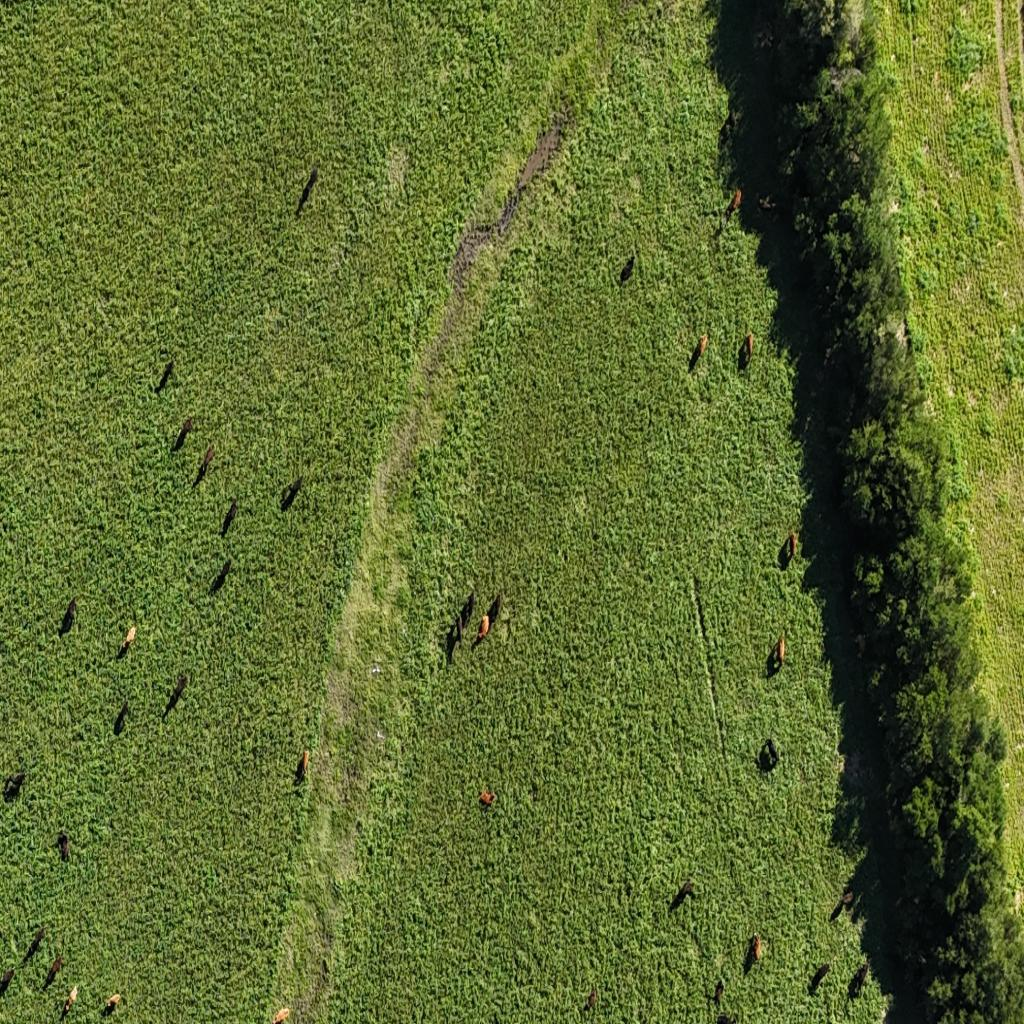cow: (789, 164, 816, 210), (296, 166, 318, 216), (192, 444, 213, 488), (209, 559, 232, 597), (670, 881, 696, 911), (850, 962, 870, 1001), (24, 926, 45, 962), (831, 889, 854, 921), (689, 333, 708, 371), (281, 475, 302, 509), (174, 416, 195, 450), (44, 953, 63, 990), (760, 738, 780, 772), (2, 772, 26, 800), (809, 962, 830, 994), (170, 673, 188, 709), (155, 358, 174, 392), (744, 934, 760, 974), (60, 597, 77, 634), (446, 619, 460, 663), (119, 624, 137, 657), (114, 698, 130, 734), (719, 110, 735, 146), (223, 496, 238, 534), (60, 987, 76, 1022), (488, 590, 502, 629), (619, 252, 635, 286), (461, 591, 475, 629), (102, 992, 124, 1016), (726, 189, 742, 221), (774, 631, 787, 670), (297, 748, 311, 782), (0, 966, 15, 997), (57, 832, 71, 862), (453, 611, 464, 646), (786, 531, 798, 563), (742, 333, 754, 364), (477, 614, 490, 642), (272, 1005, 291, 1024), (758, 194, 777, 212), (479, 788, 495, 809), (854, 633, 866, 659), (586, 984, 597, 1012), (714, 979, 724, 1007), (66, 984, 78, 1006), (716, 1012, 736, 1024), (99, 290, 113, 306), (322, 955, 329, 979), (531, 782, 539, 800), (624, 883, 632, 900)
